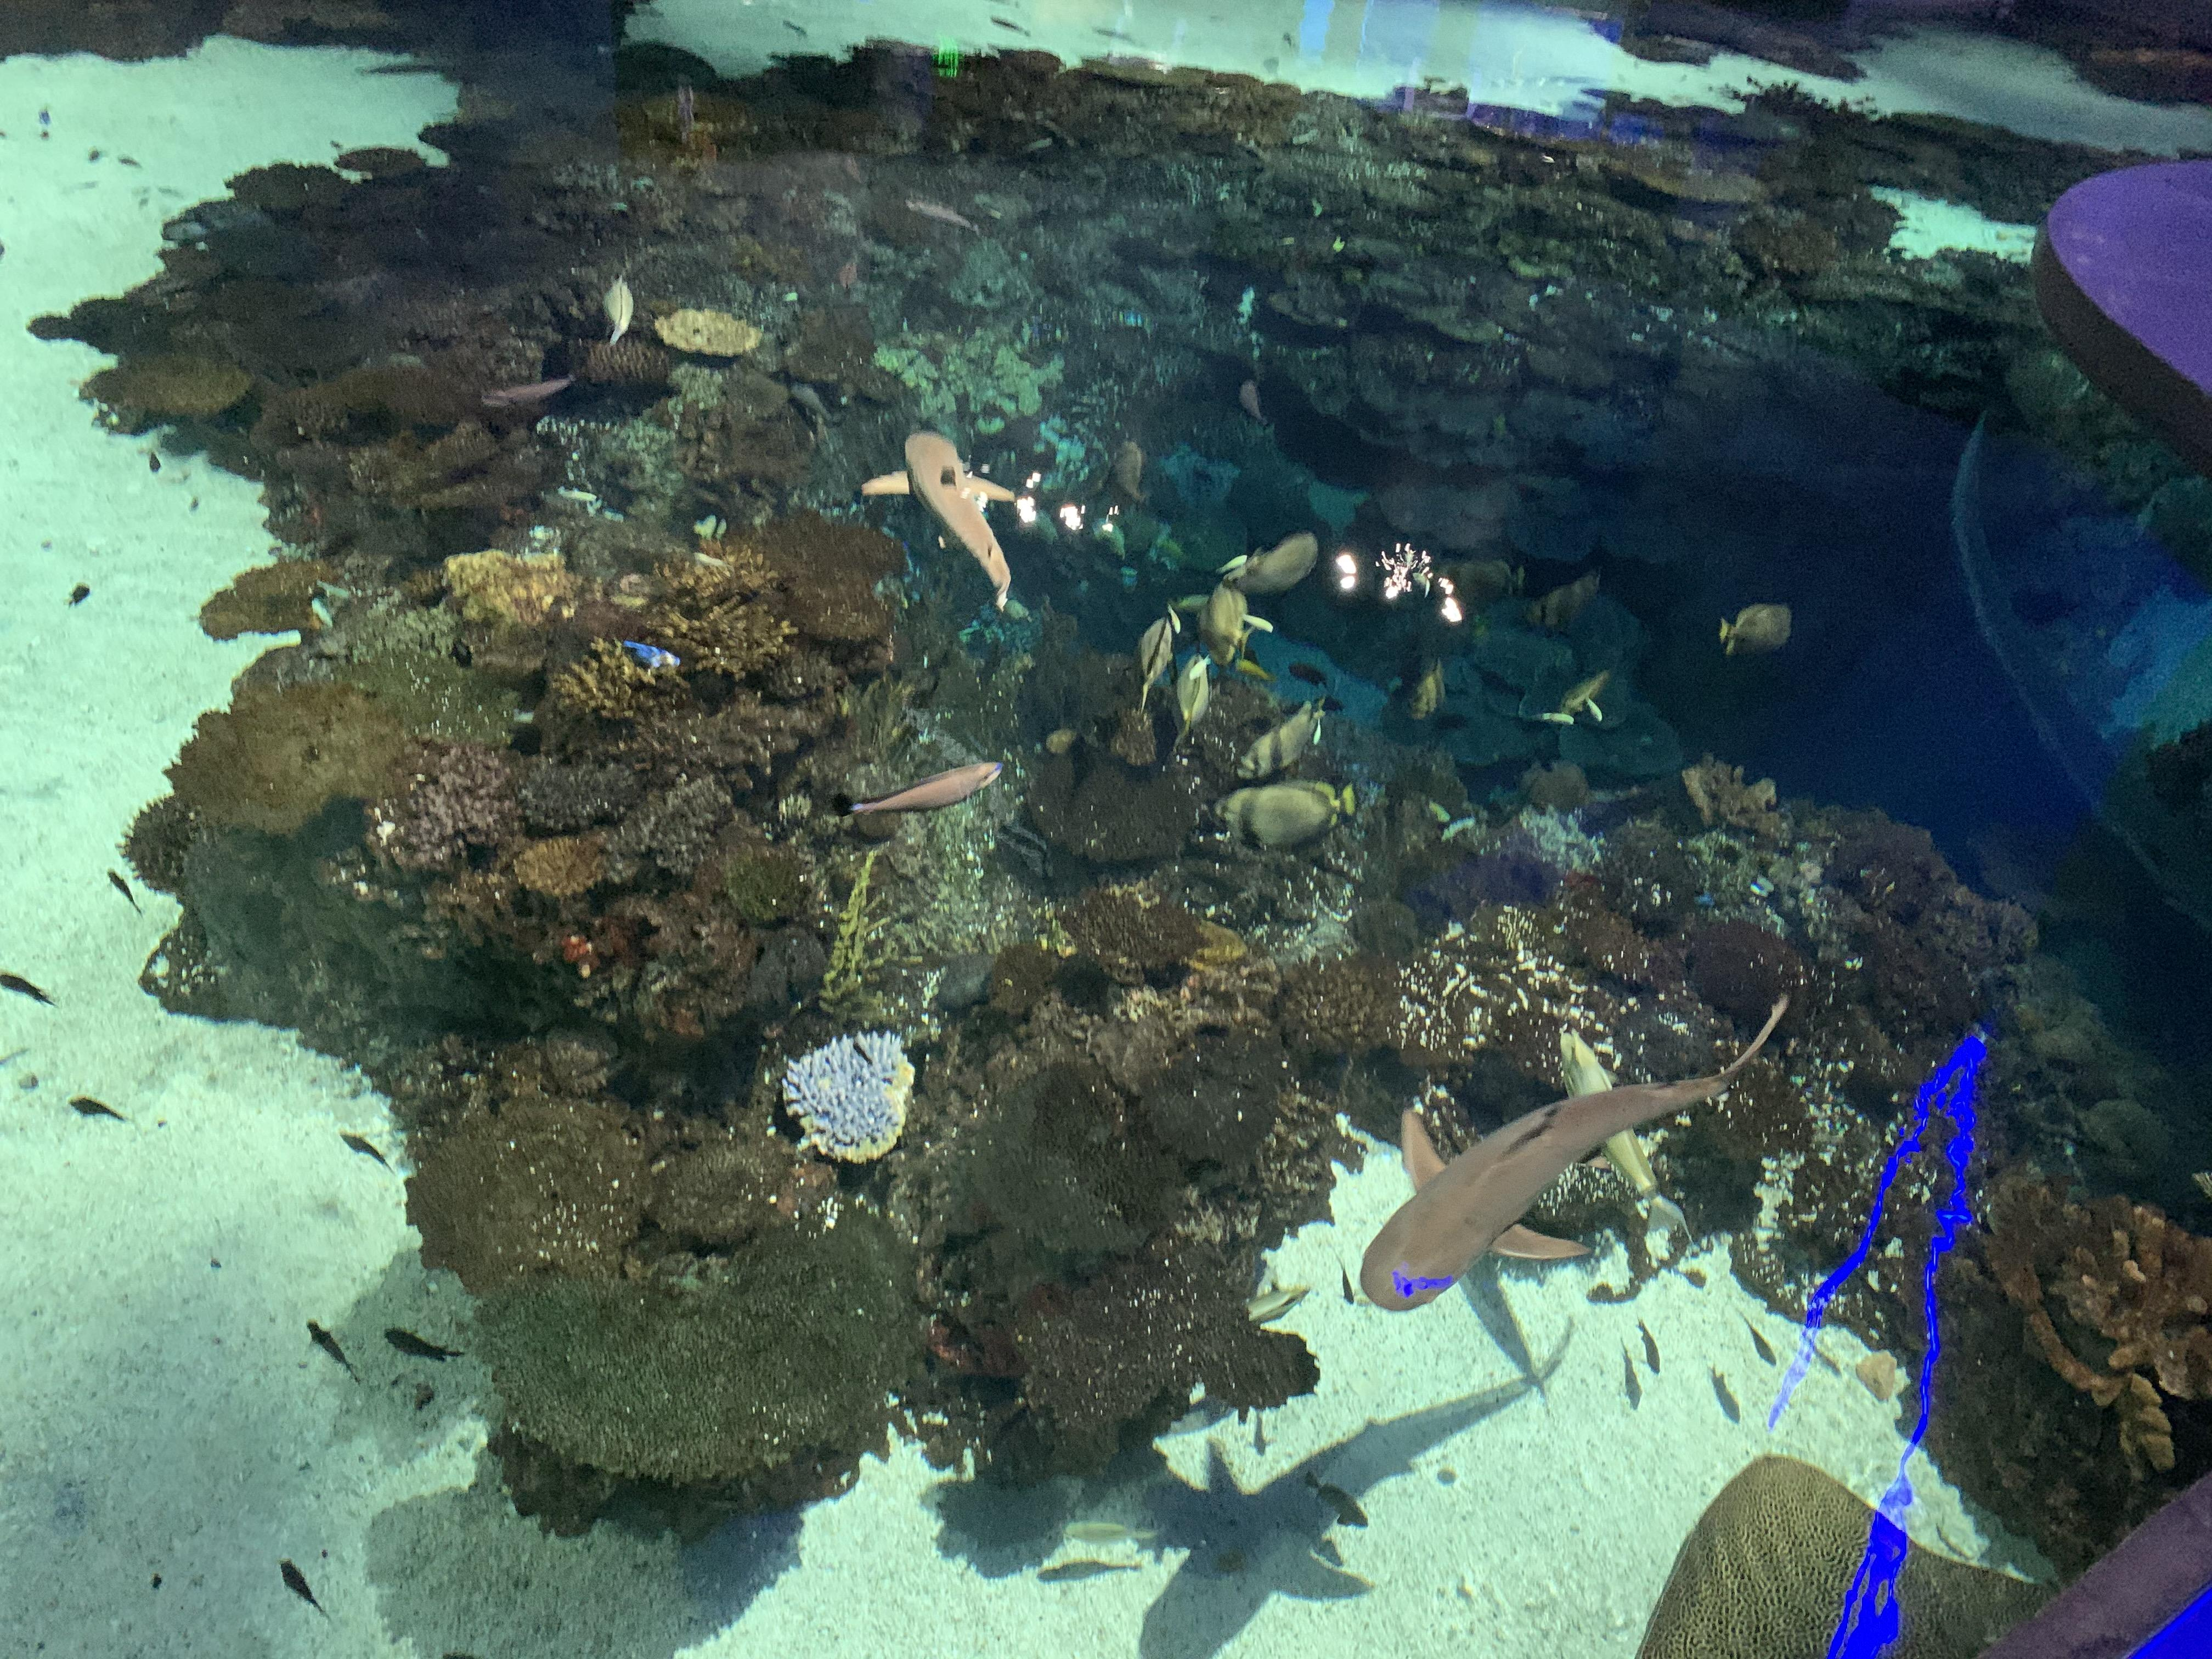fish: (845, 756, 1012, 828), (1211, 775, 1359, 854), (1233, 692, 1331, 779), (1221, 528, 1320, 601), (1195, 573, 1271, 666), (1130, 605, 1183, 714), (1716, 598, 1801, 662), (1169, 648, 1224, 746), (594, 268, 646, 350), (1106, 436, 1157, 509), (1397, 657, 1451, 725), (1235, 378, 1266, 420), (1420, 791, 1453, 826), (1526, 706, 1576, 727), (1581, 688, 1606, 721)
shark: (1346, 983, 1804, 1326), (859, 422, 1029, 617)
